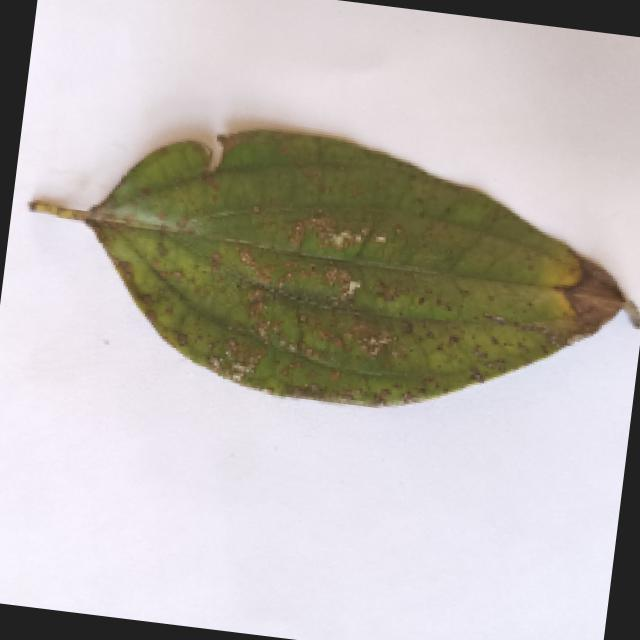footrot: (11, 96, 640, 430)
